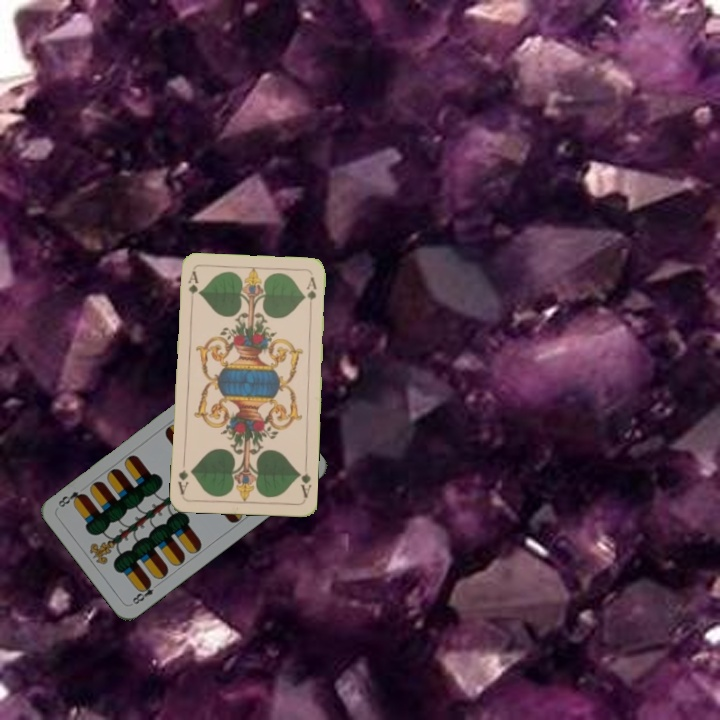E8: (127, 577, 162, 607)
GA: (294, 460, 313, 500), (184, 267, 201, 308)
